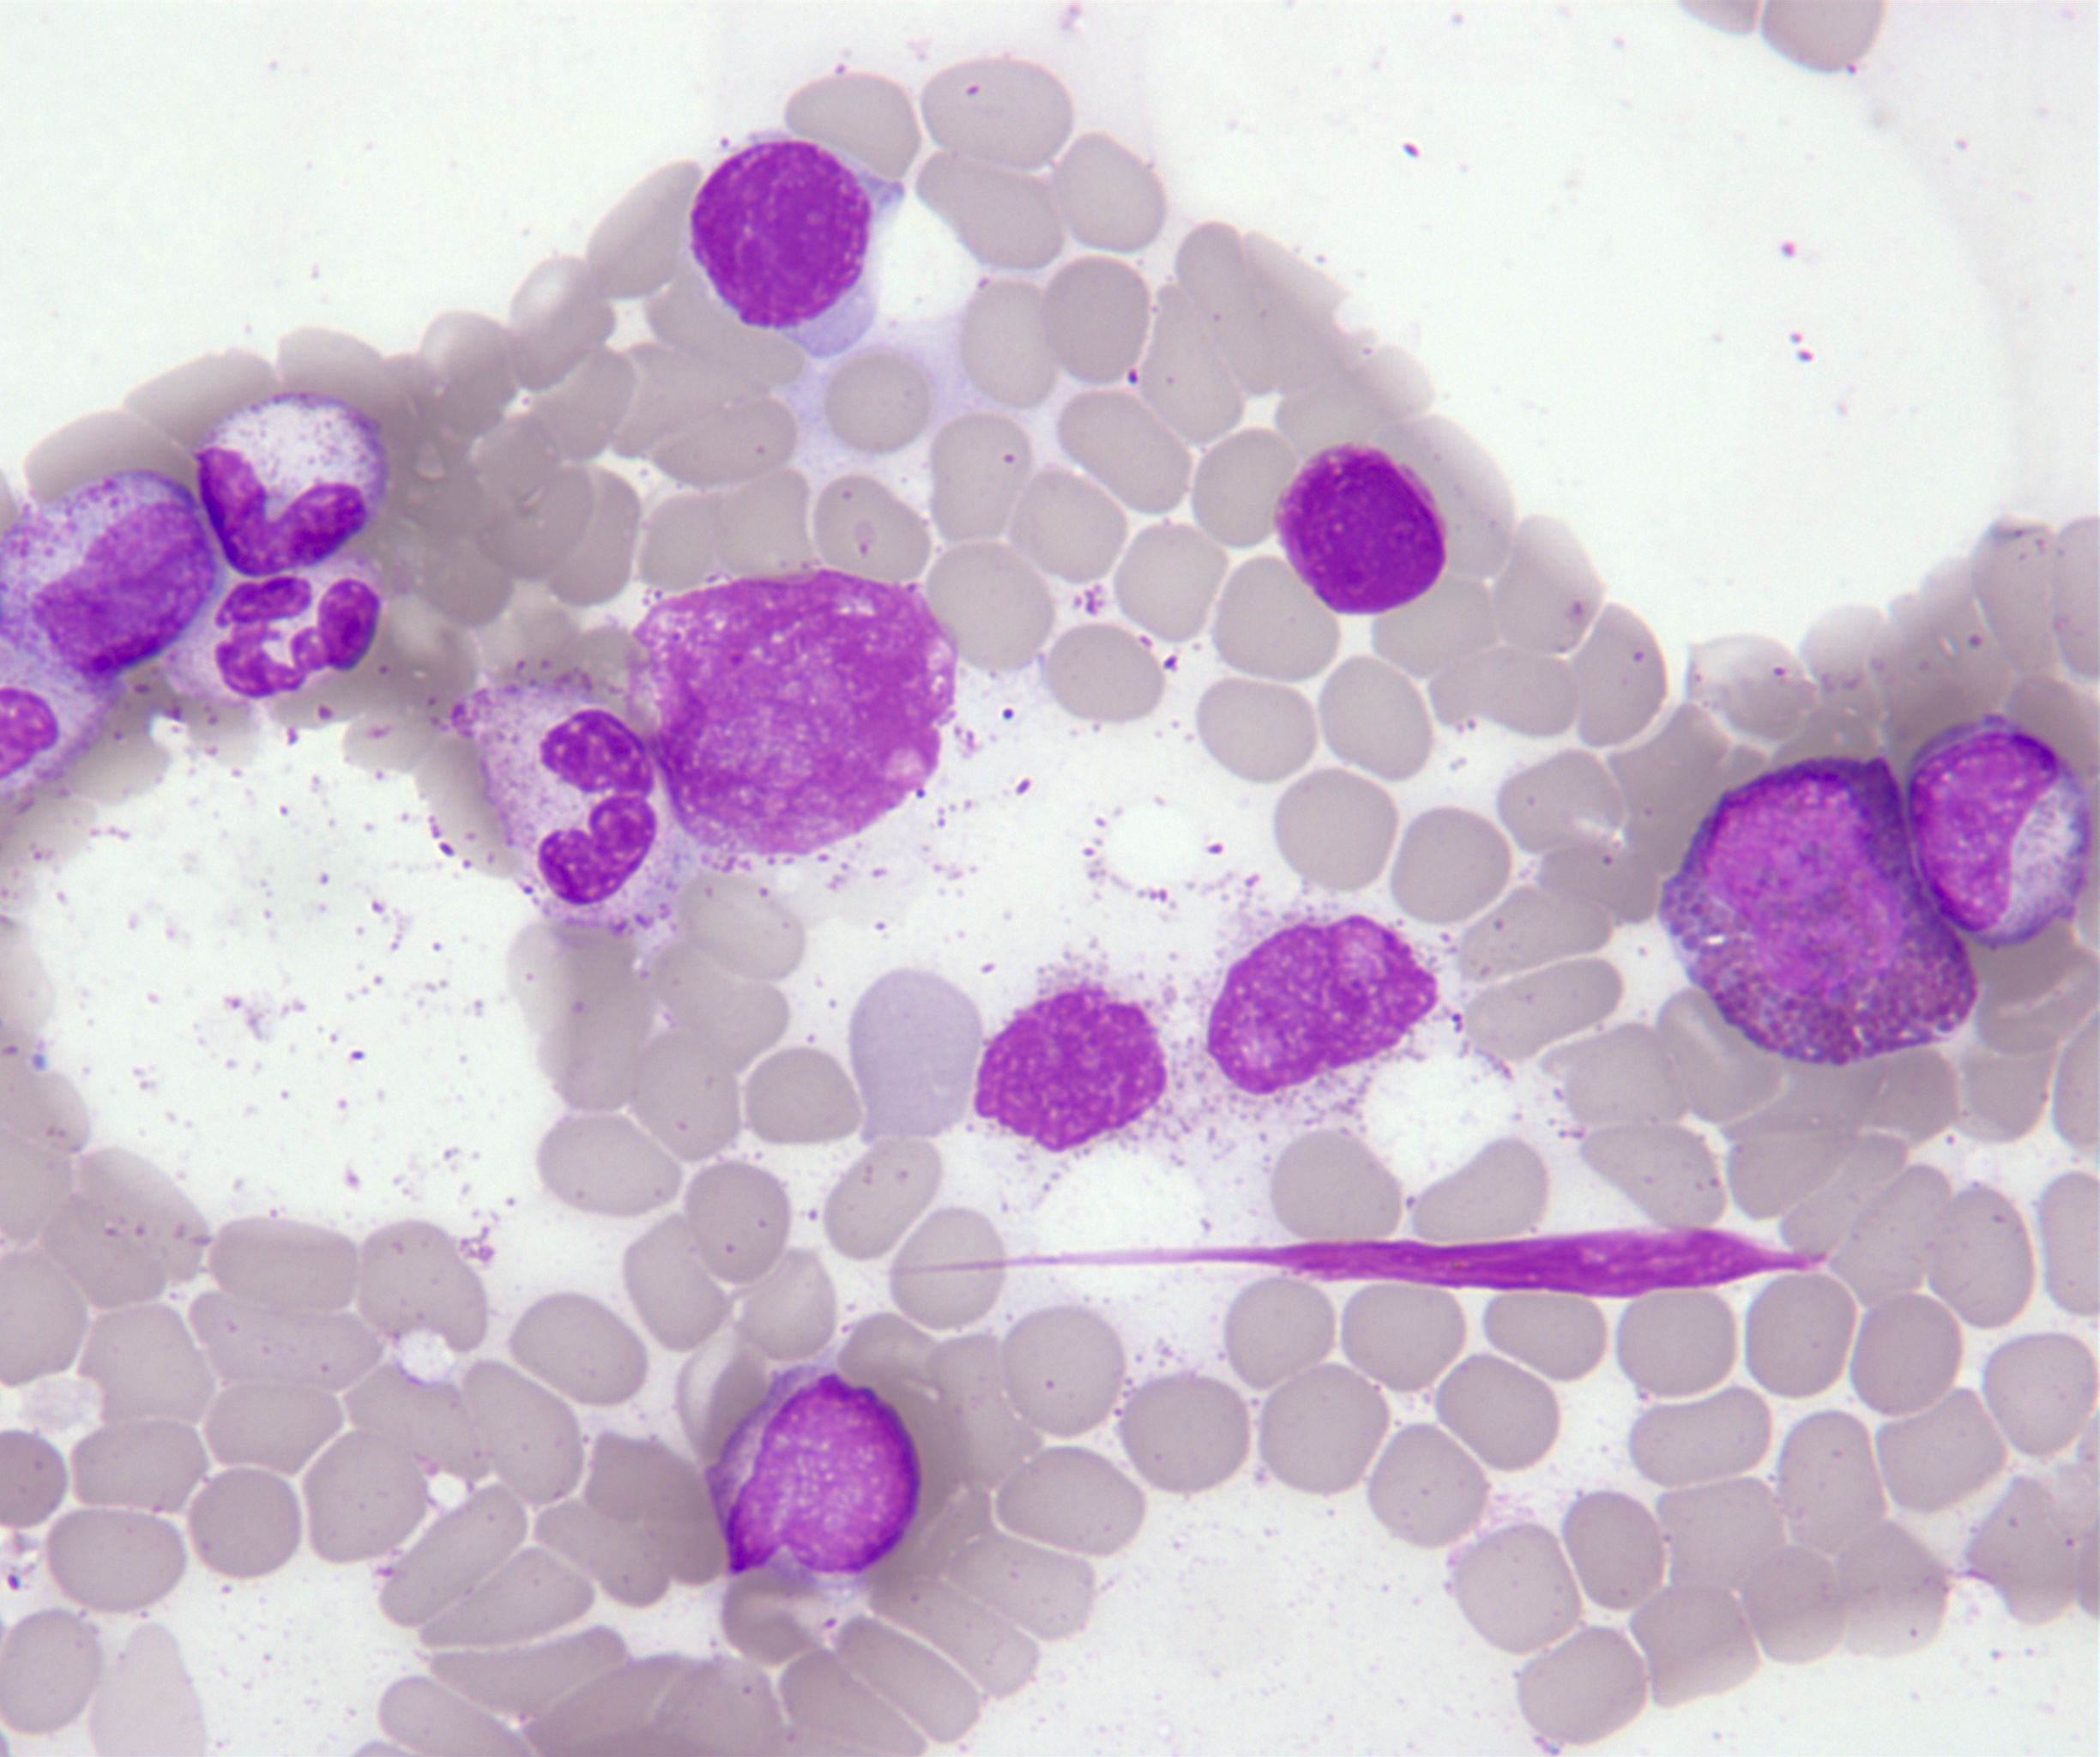23: (685, 134, 876, 332)
3: (703, 1354, 924, 1579), (0, 468, 220, 686)
4: (1901, 710, 2093, 953)
5: (190, 386, 389, 578)
6: (448, 673, 682, 926), (206, 581, 387, 708)
E1: (1655, 750, 1985, 1068)
x: (630, 569, 965, 864), (1200, 911, 1444, 1097), (968, 975, 1169, 1157), (1268, 438, 1449, 621)
